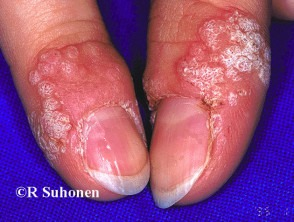Warts: (184, 6, 266, 101), (26, 54, 83, 153)
